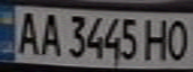3: (63, 11, 87, 58)
4: (84, 14, 106, 61), (103, 15, 124, 61)
5: (118, 15, 142, 62)
A: (12, 8, 42, 55), (36, 10, 63, 56)
H: (142, 16, 172, 62)
O: (163, 16, 193, 62)
